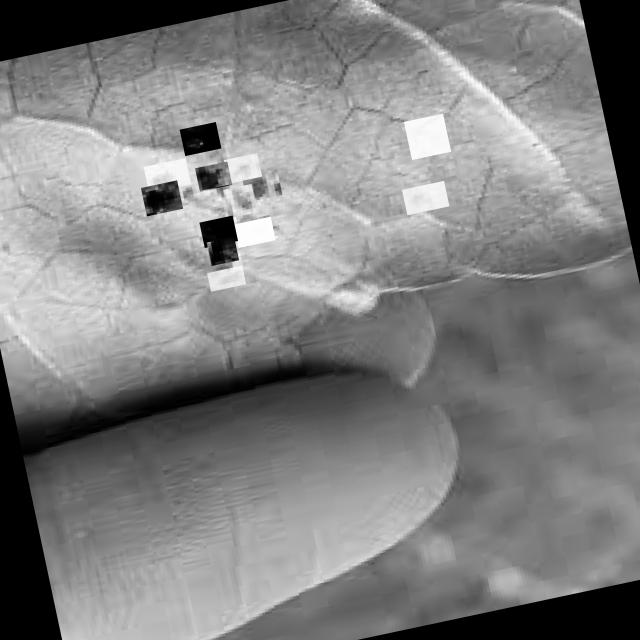aphid: (403, 114, 450, 160), (142, 158, 190, 193), (401, 180, 448, 214), (140, 180, 182, 216), (178, 122, 220, 156), (240, 169, 281, 202), (232, 217, 274, 248), (198, 215, 237, 248), (222, 183, 258, 218), (222, 152, 260, 184), (194, 162, 231, 192), (206, 266, 245, 292), (205, 237, 238, 266)
